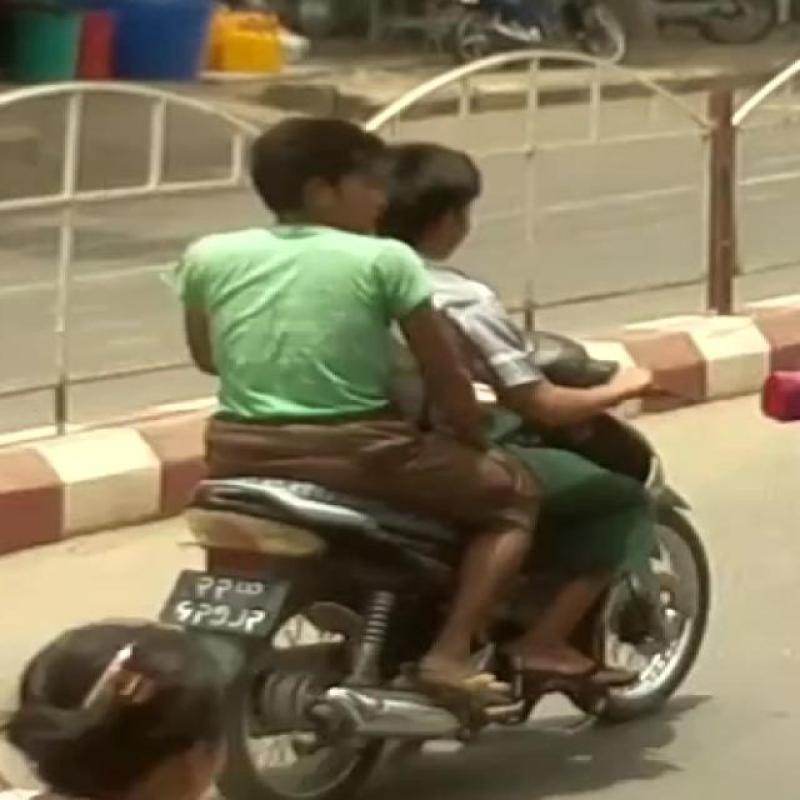nohelmet: (246, 108, 390, 261), (399, 118, 520, 261)
